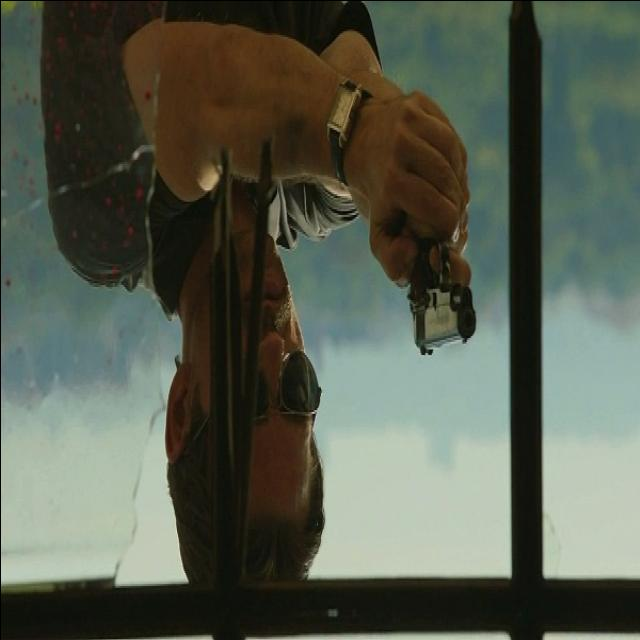weapons: (387, 158, 486, 388)
